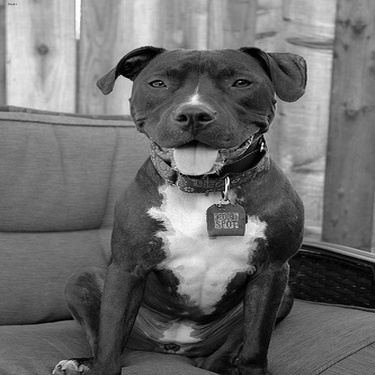dog: (35, 44, 312, 371)
